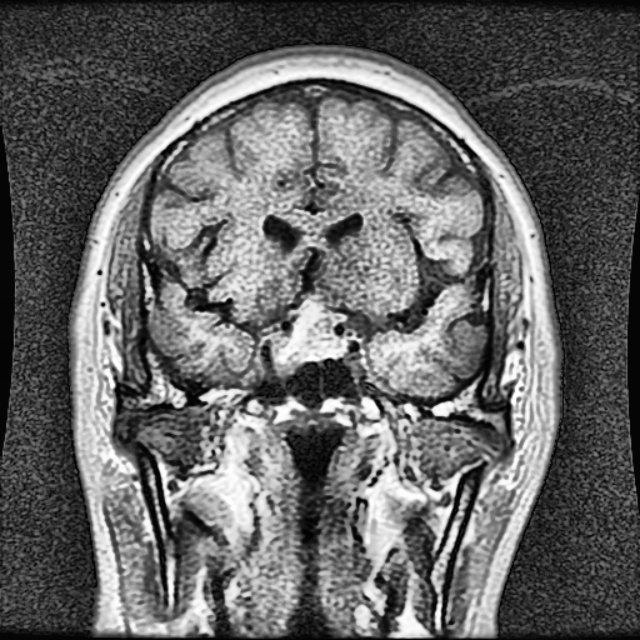Pituitary: (270, 300, 347, 375)
